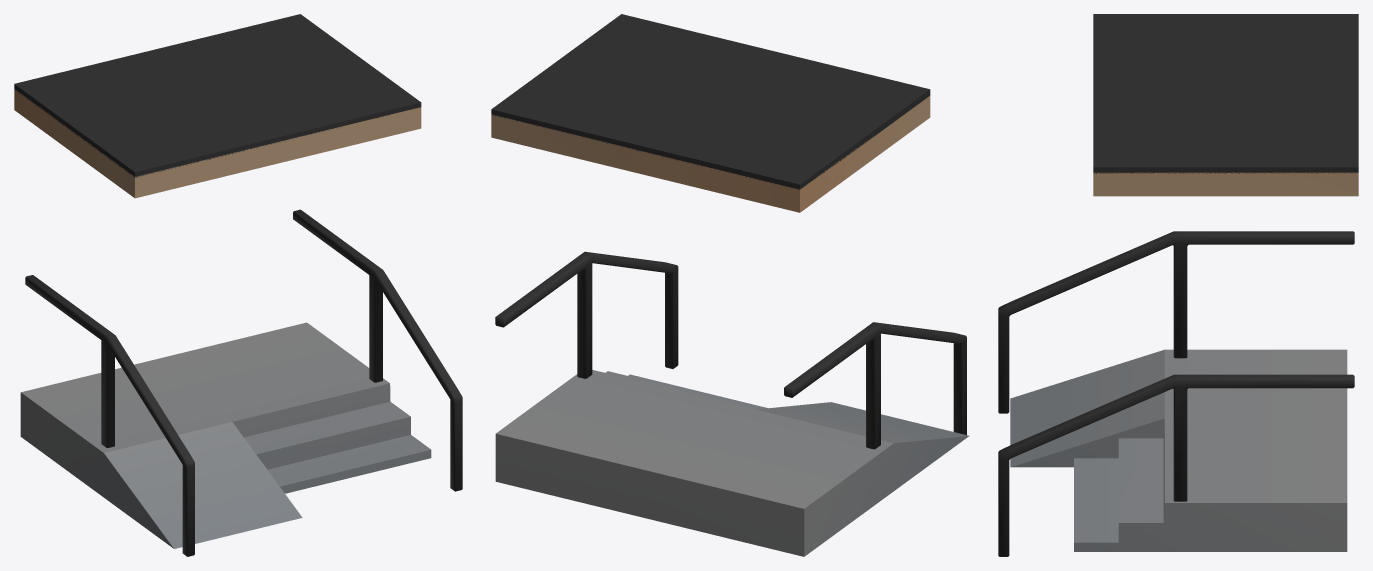
Rendered from New entrance.fbx.
The picture shows the model from 3 angles, left to right: view 1: azimuth 30°, elevation 25°; view 2: azimuth 150°, elevation 25°; view 3: azimuth 270°, elevation 25°; orthographic projection. The views are drawn at different scales.
Parts seen in each view (by area): view 1: Cube.492; view 2: Cube.492; view 3: Cube.492.
Part boxes in pixels (x1,y1,x2,y2): Cube.492: (14, 14, 462, 556); Cube.492: (491, 14, 969, 556); Cube.492: (998, 14, 1358, 556).
Bounding box in the file's own units: 658 × 778 × 651.
